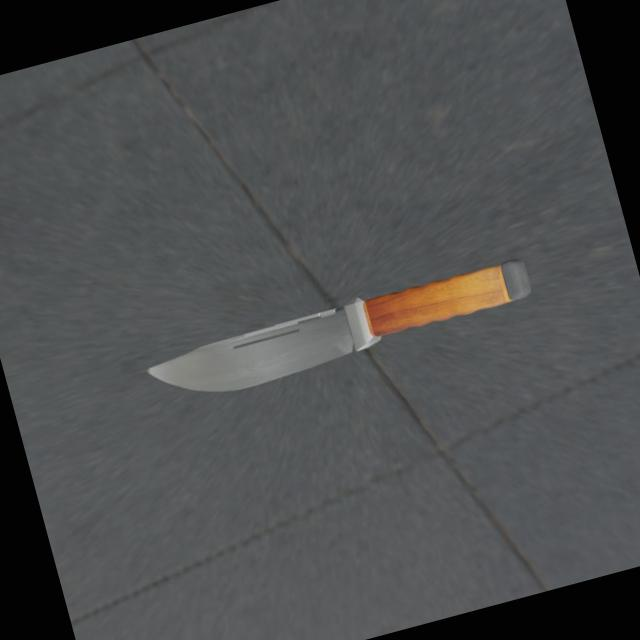knife: (343, 260, 510, 346)
